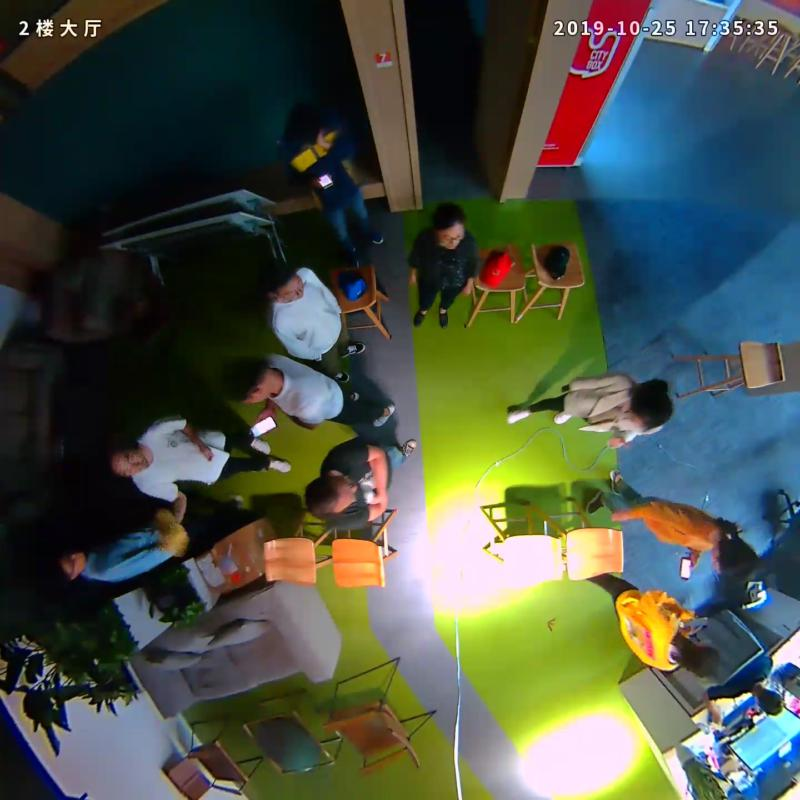head: (218, 359, 276, 406), (303, 472, 358, 518), (623, 381, 673, 430), (707, 534, 756, 580), (677, 632, 721, 676), (264, 258, 306, 302), (105, 440, 151, 478), (288, 100, 325, 147), (434, 203, 467, 250), (46, 548, 88, 581)
